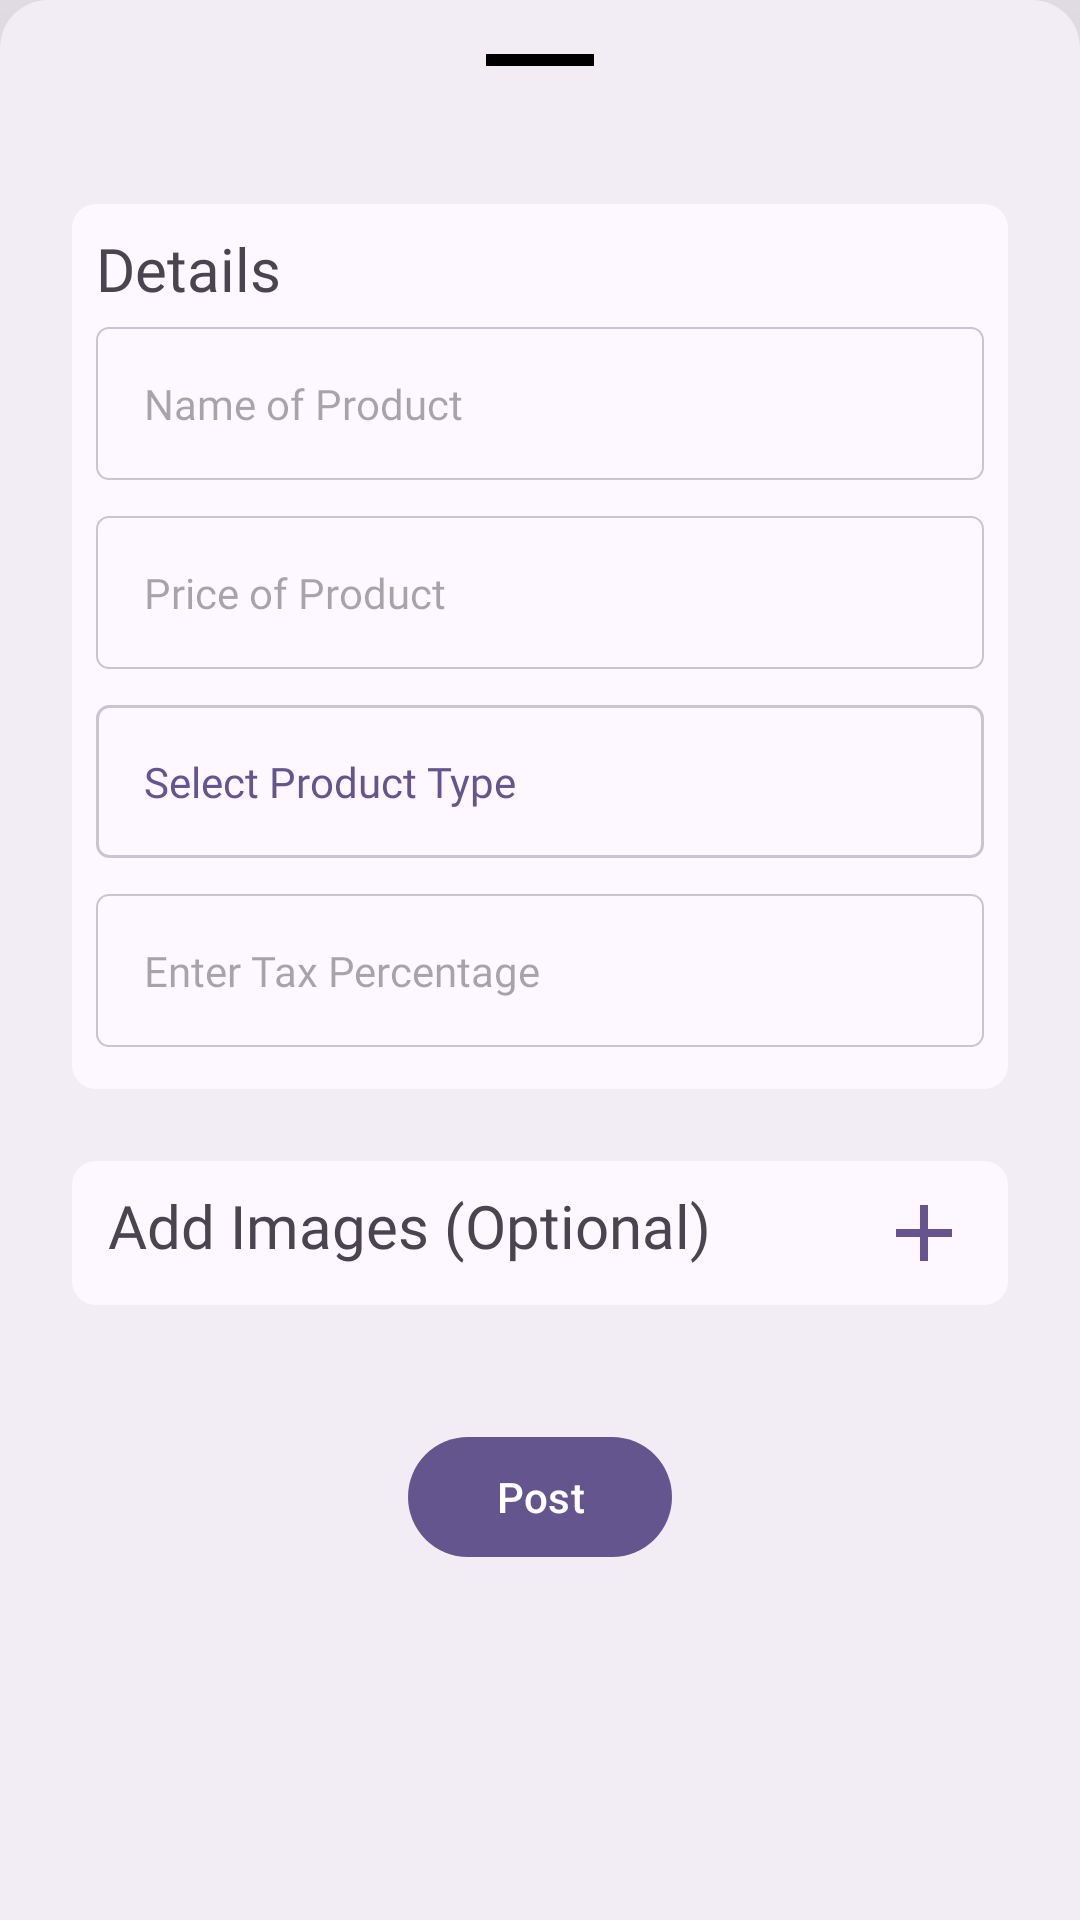

Where to tap for icons on this 1080 × 1920 app screen, as (x,y):
add: (924,1233)
